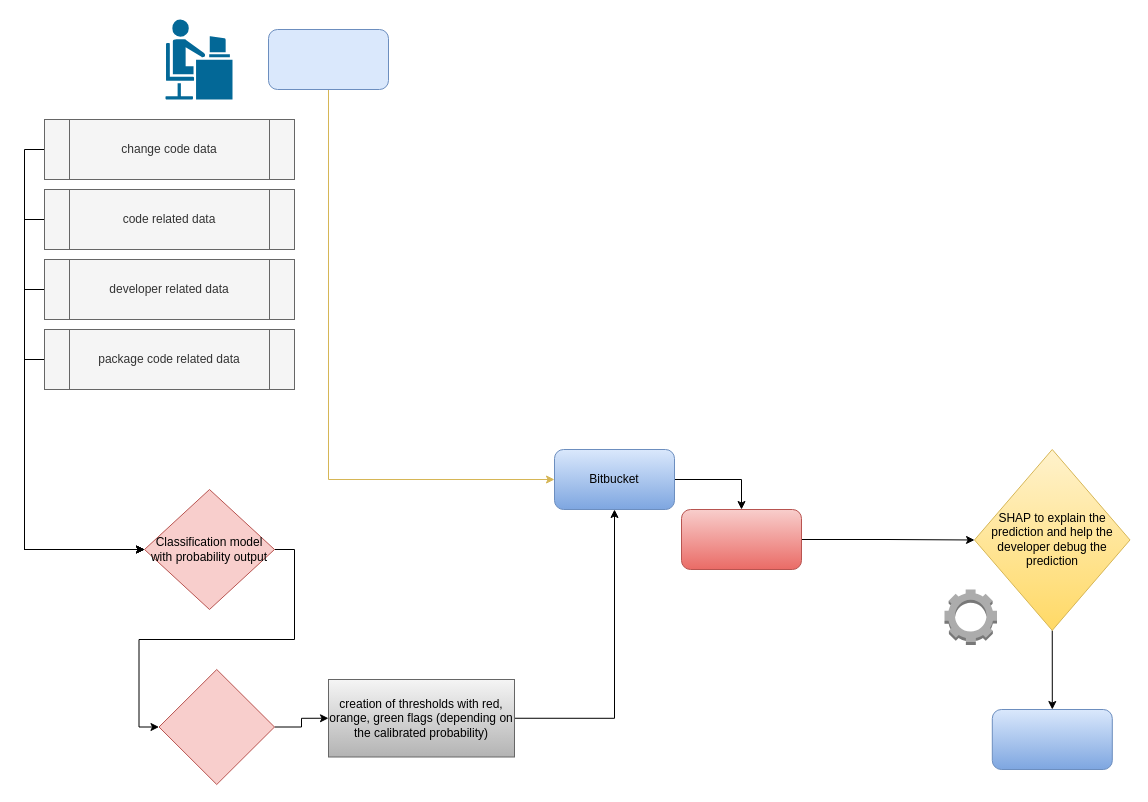
The diagram is 1148 pixels wide and 802 high, and some of its shapes have lost their labels. Each missing label, with the centre of its shape:
"if red ==> reviewing alert" belongs at (x=741, y=539).
"Merge / Not Merge" belongs at (x=1051, y=739).
"Model calibration" belongs at (x=216, y=726).
"Pull Request" belongs at (x=328, y=59).
